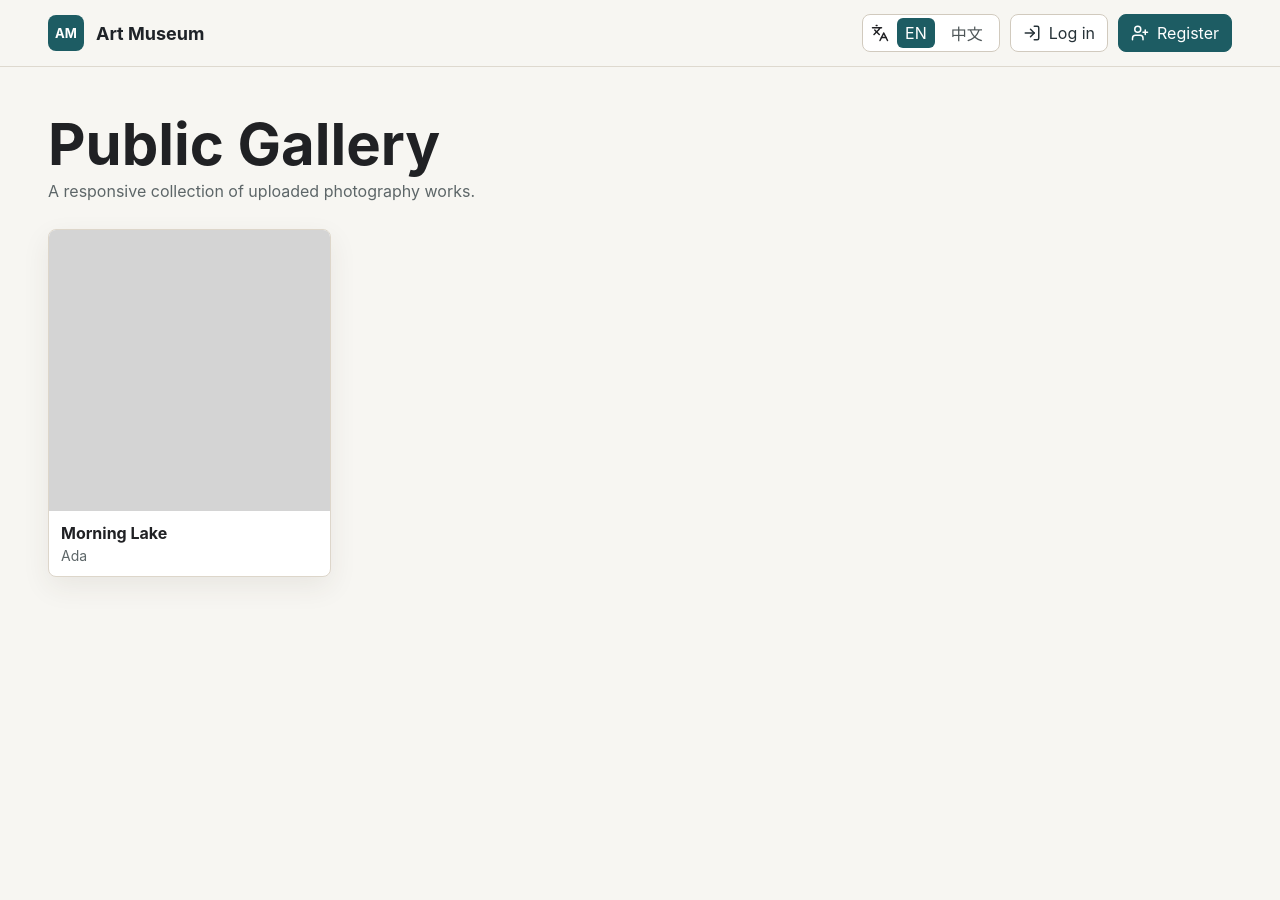
Test: Art Museum frontend › opens and closes the image lightbox
Step 1. Click the button "Morning Lake Ada" → (189, 403), box [48,229,330,576]
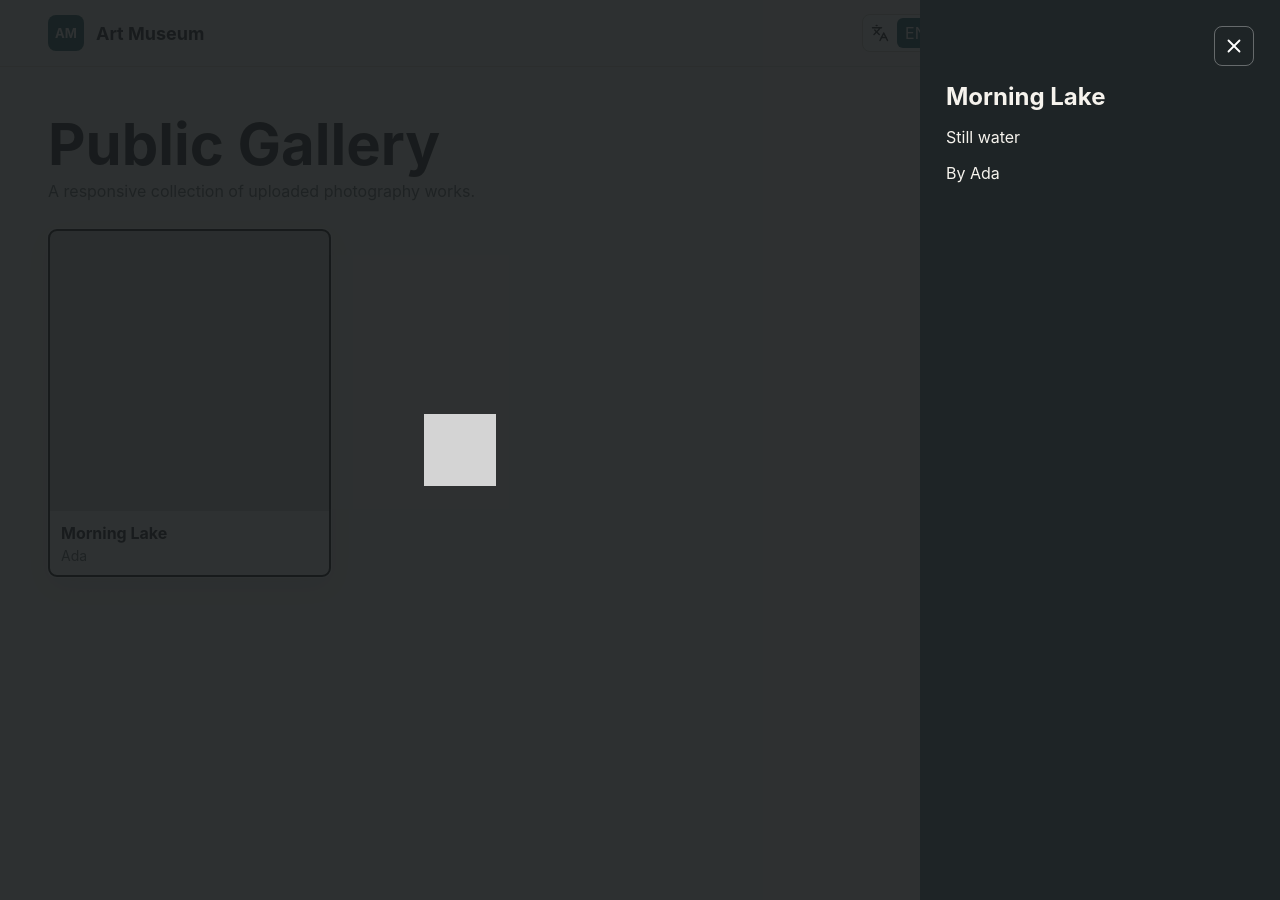
Expected: the dialog "Morning Lake" is shown
Step 2. Press Escape
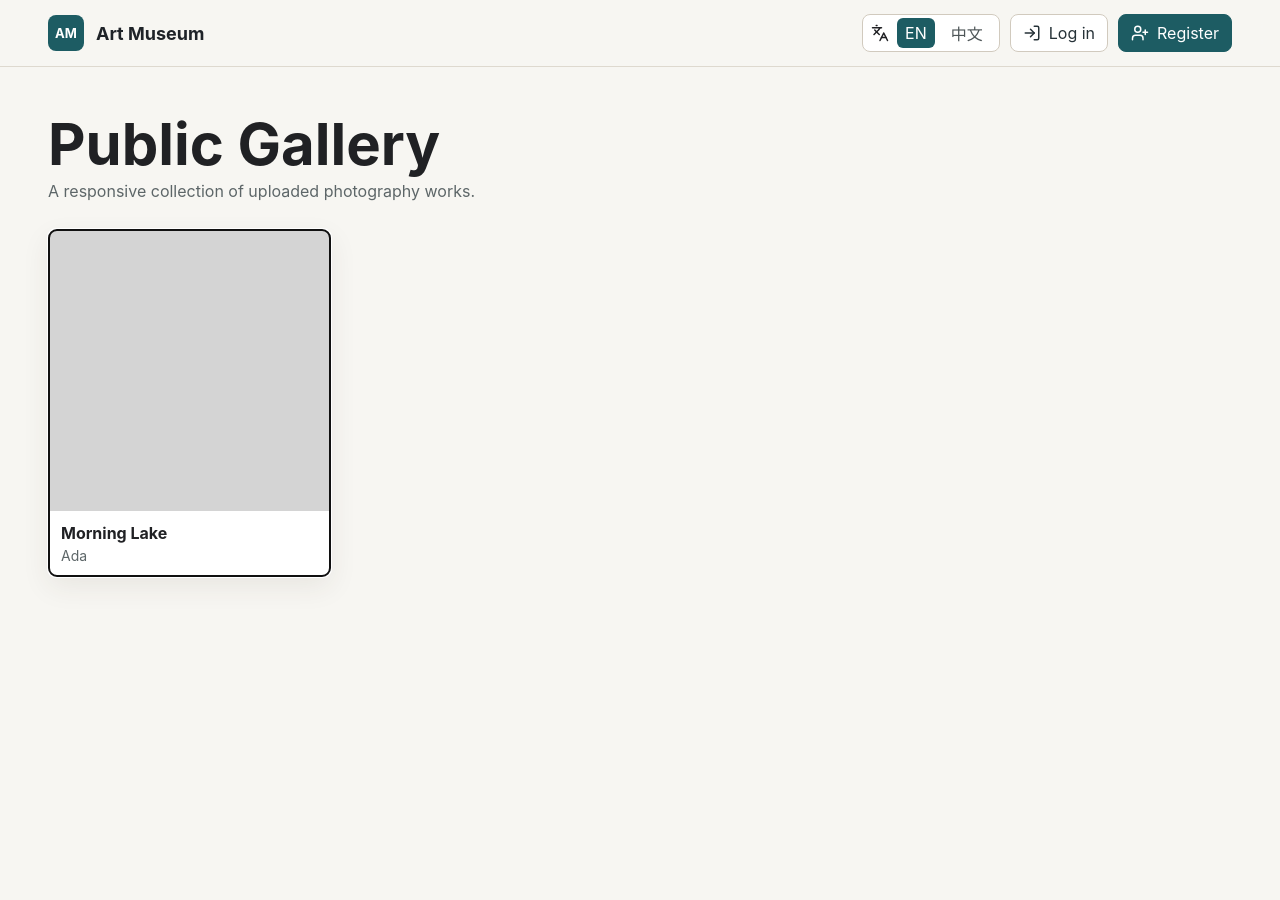
Expected: the dialog is gone
